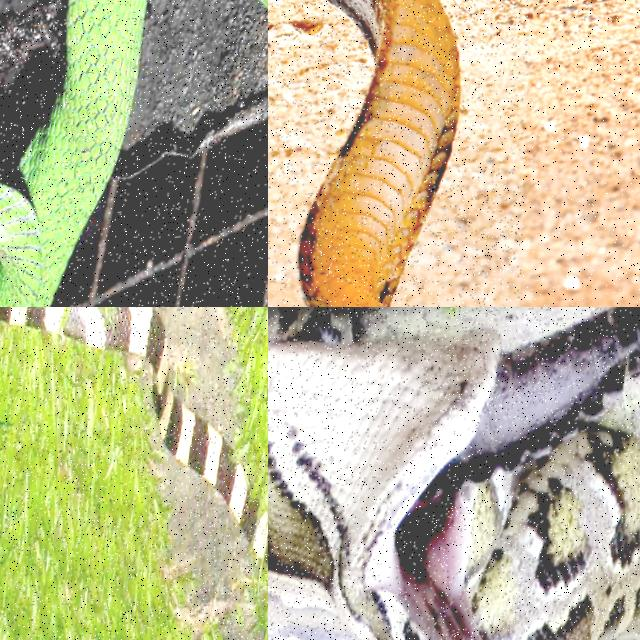Bungarus candidus: (0, 307, 267, 565)
Ophiophagus hannah: (298, 0, 460, 306)
Python bivittatus: (268, 332, 639, 639)
Trimeresurus macrops: (0, 0, 146, 306)
